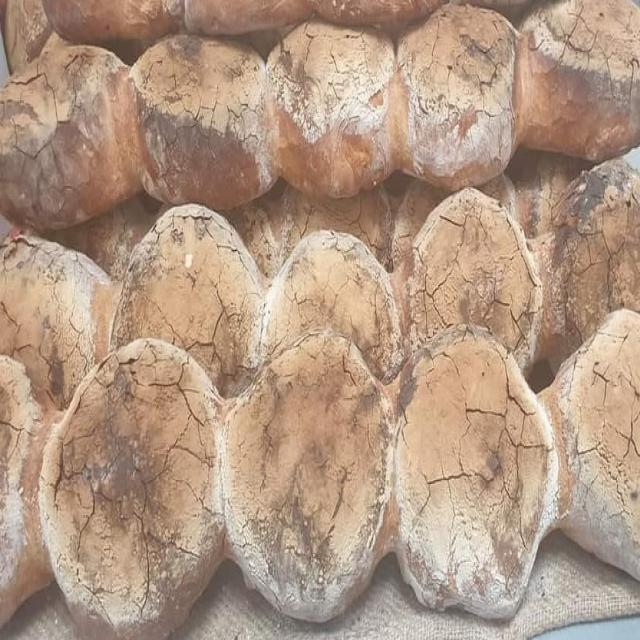Maltese-Bread: (38, 338, 225, 639), (222, 330, 394, 619), (396, 325, 557, 618), (0, 35, 144, 230), (112, 204, 263, 389), (538, 310, 639, 580), (130, 34, 281, 208), (407, 189, 540, 367), (529, 159, 639, 372), (267, 22, 394, 196), (397, 3, 517, 187), (260, 230, 401, 377), (0, 234, 118, 406)
